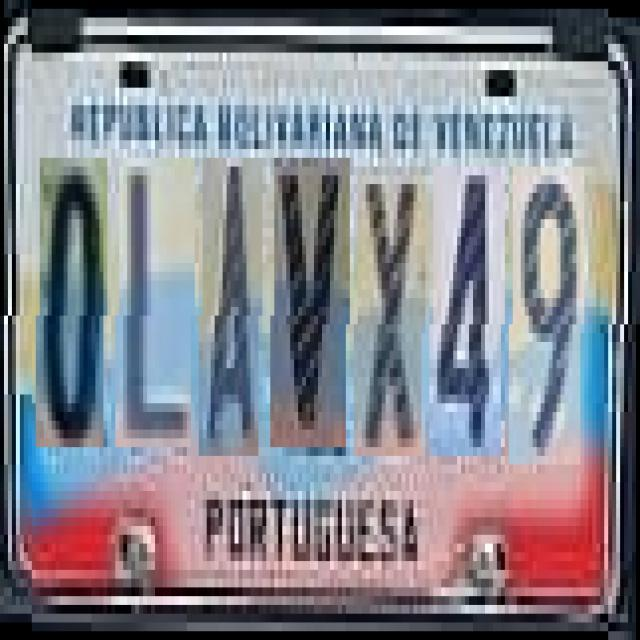4: (433, 166, 505, 456)
9: (512, 166, 584, 464)
A: (202, 158, 262, 456)
L: (120, 158, 194, 448)
O: (40, 158, 108, 448)
V: (274, 158, 350, 448)
X: (358, 166, 426, 456)
